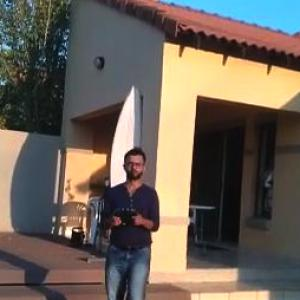follow: (95, 143, 164, 299)
